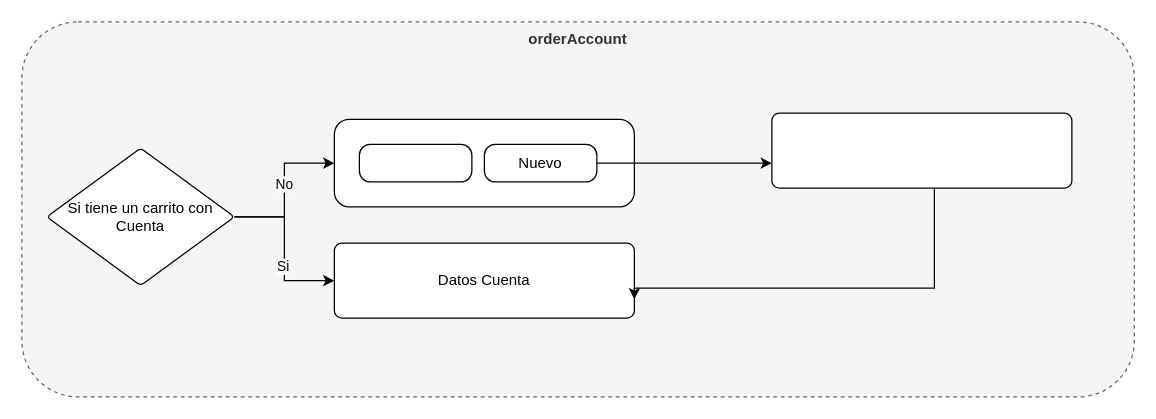
This 1156x419 diagram has some shape labels left out. The shapes that lost their labels are listed below. From the top down, each one's box as (x1, y1, x2, y2) in pixels, then its label:
(358, 143, 472, 182): Buscar
(771, 112, 1072, 188): Cuenta
